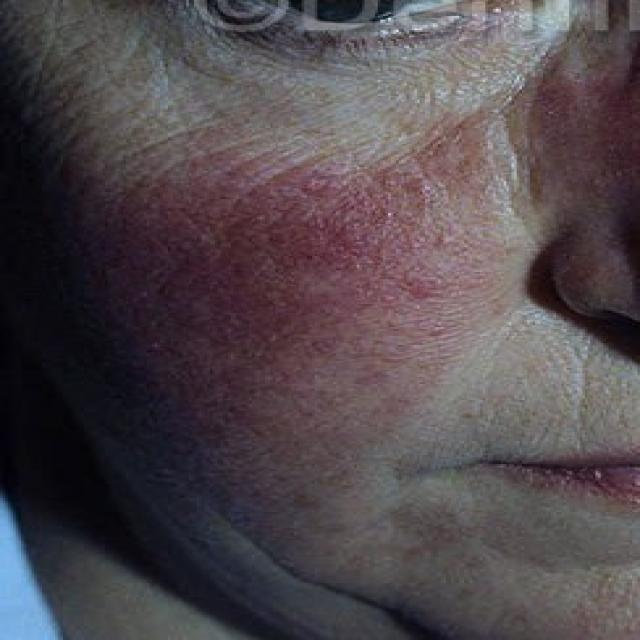Rosacea: (110, 166, 432, 373)
